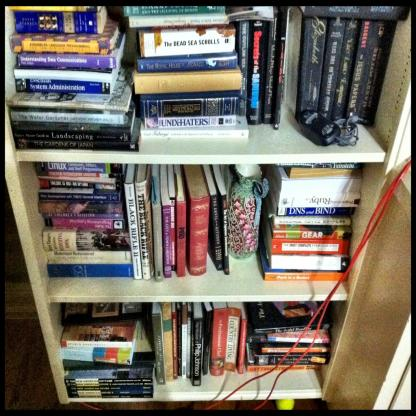book: (7, 4, 388, 153), (37, 163, 362, 288), (58, 301, 335, 400), (121, 3, 248, 140), (287, 4, 410, 119), (257, 162, 364, 282), (123, 162, 228, 282), (4, 63, 142, 152), (8, 6, 127, 97), (41, 161, 132, 278), (56, 302, 158, 396), (150, 301, 248, 388), (226, 6, 285, 130), (244, 302, 330, 372)
